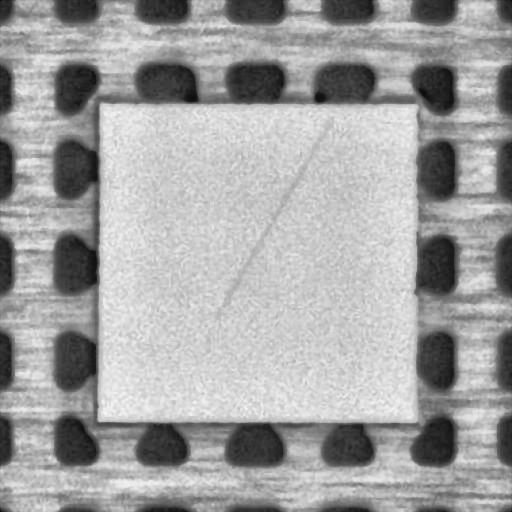DIE_CRACK: (215, 116, 331, 317)
